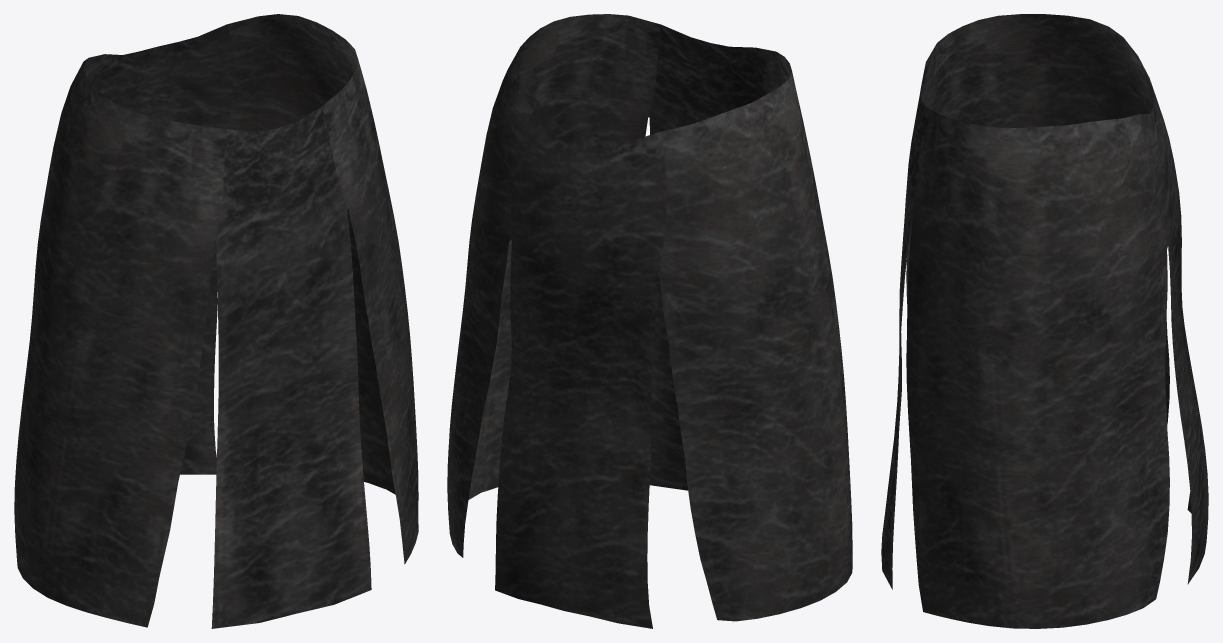
The model's file is clo_thranduil_body.fbx.
The picture shows the model from 3 angles, left to right: view 1: azimuth 30°, elevation 25°; view 2: azimuth 150°, elevation 25°; view 3: azimuth 270°, elevation 25°; orthographic projection. The views are drawn at different scales.
Parts seen in each view (by area): view 1: clo_thranduil_body; view 2: clo_thranduil_body; view 3: clo_thranduil_body.
Part boxes in pixels (<box>): clo_thranduil_body: <box>14,14,418,628</box>; clo_thranduil_body: <box>447,14,852,628</box>; clo_thranduil_body: <box>881,14,1208,628</box>.
Bounding box in the file's own units: 0.5077 × 0.3961 × 0.6443.
1 material, 1 textured.
